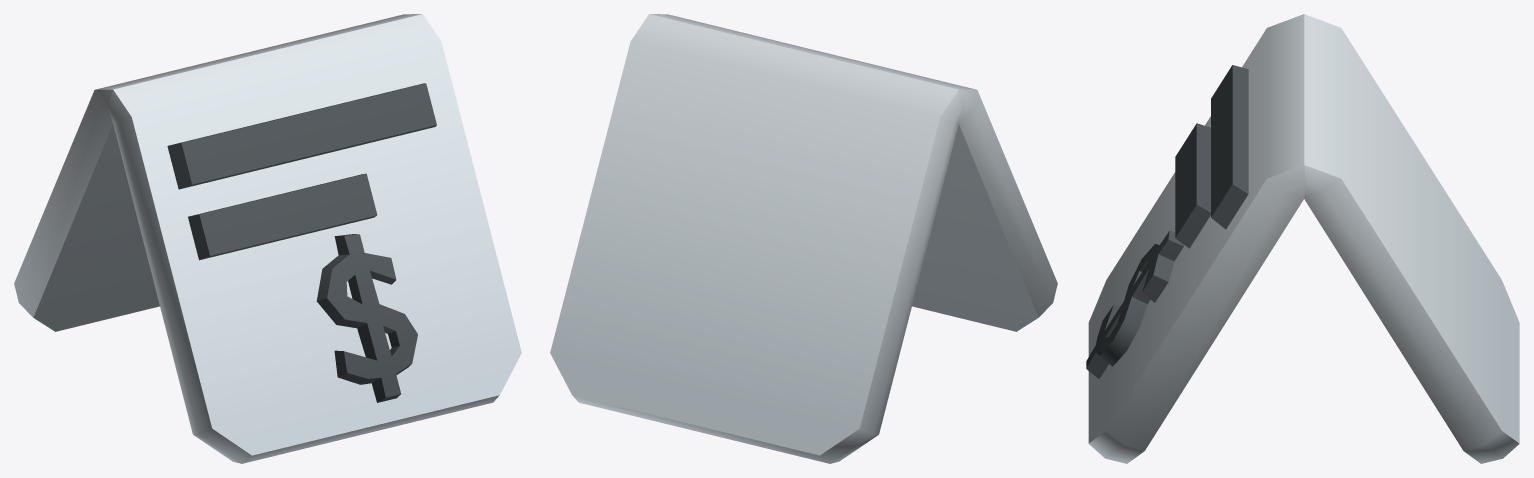
Rendered from pricing-card.glb.
3 renders of one model, left to right at view 1: azimuth 30°, elevation 25°; view 2: azimuth 150°, elevation 25°; view 3: azimuth 270°, elevation 25°, orthographic.
Visible parts, largest first — view 1: pricing_card; view 2: pricing_card; view 3: pricing_card.
Part boxes in pixels (left/top/right/bottom): pricing_card: left=14, top=14, right=521, bottom=463; pricing_card: left=550, top=14, right=1057, bottom=463; pricing_card: left=1086, top=14, right=1519, bottom=463.
Size of the model in its own units: 0.2473 by 0.2331 by 0.2916.
Materials: 1 (1 with a texture image).
